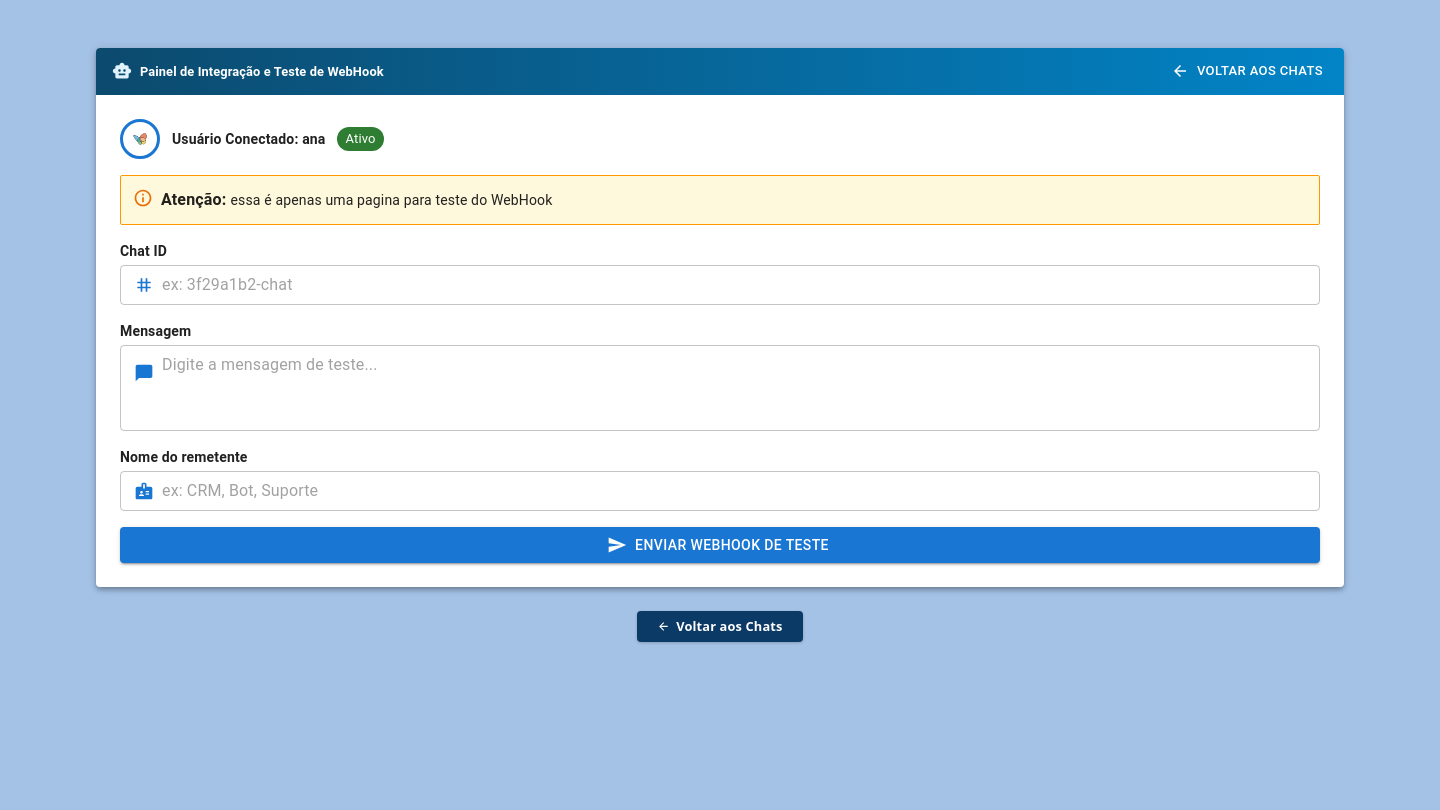
WebhookTestPage › shows a clear error when VITE_WEBHOOK_TEST_SECRET is not configured
Expected: the text "Usuário Conectado: ana" is shown, left=172, top=129, right=326, bottom=149
In the field labelled "Chat ID": {"x": 741, "y": 285} left=162, top=265, right=1320, bottom=305, type "chat-1"
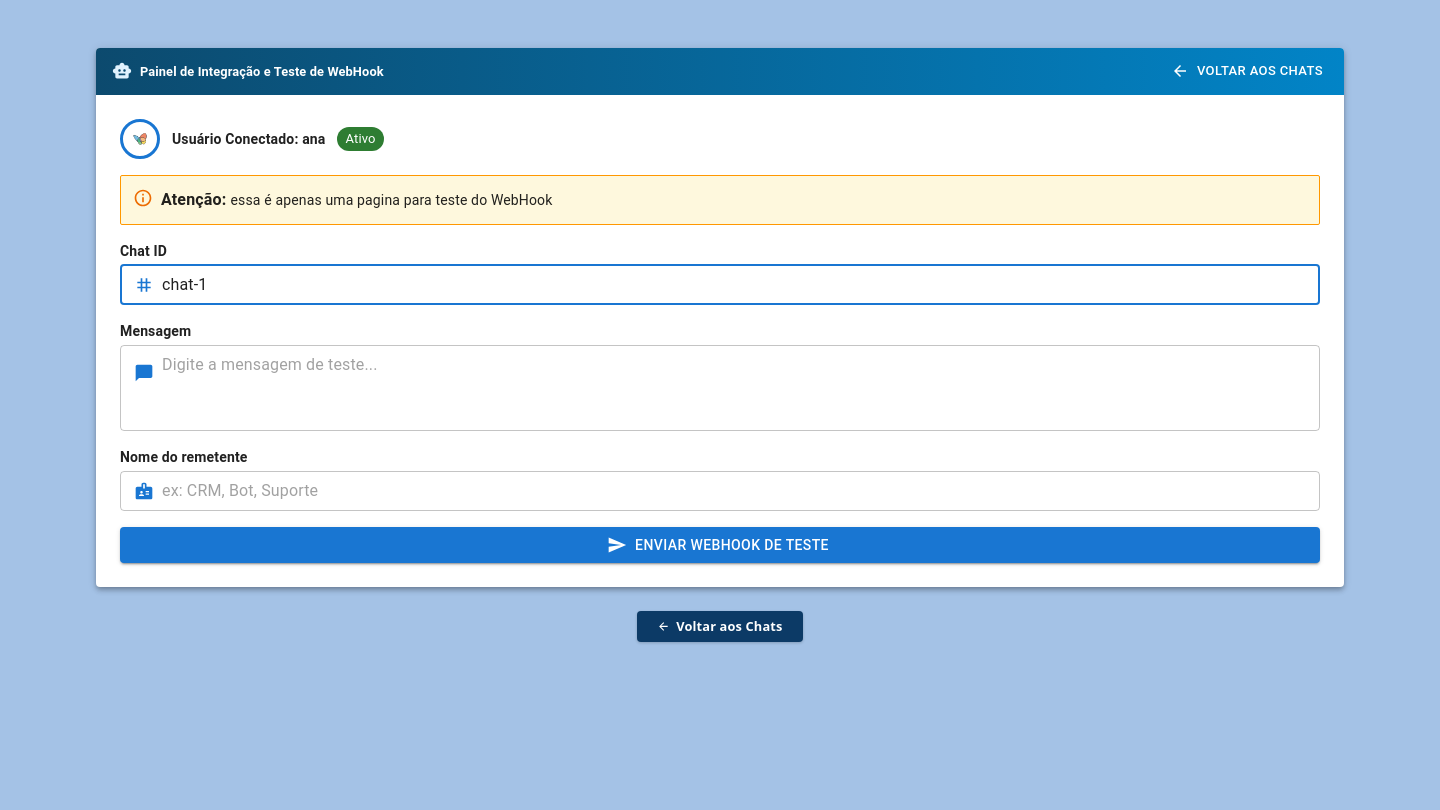
In the text box labelled "Mensagem": {"x": 734, "y": 388} left=162, top=353, right=1306, bottom=422, type "oi"
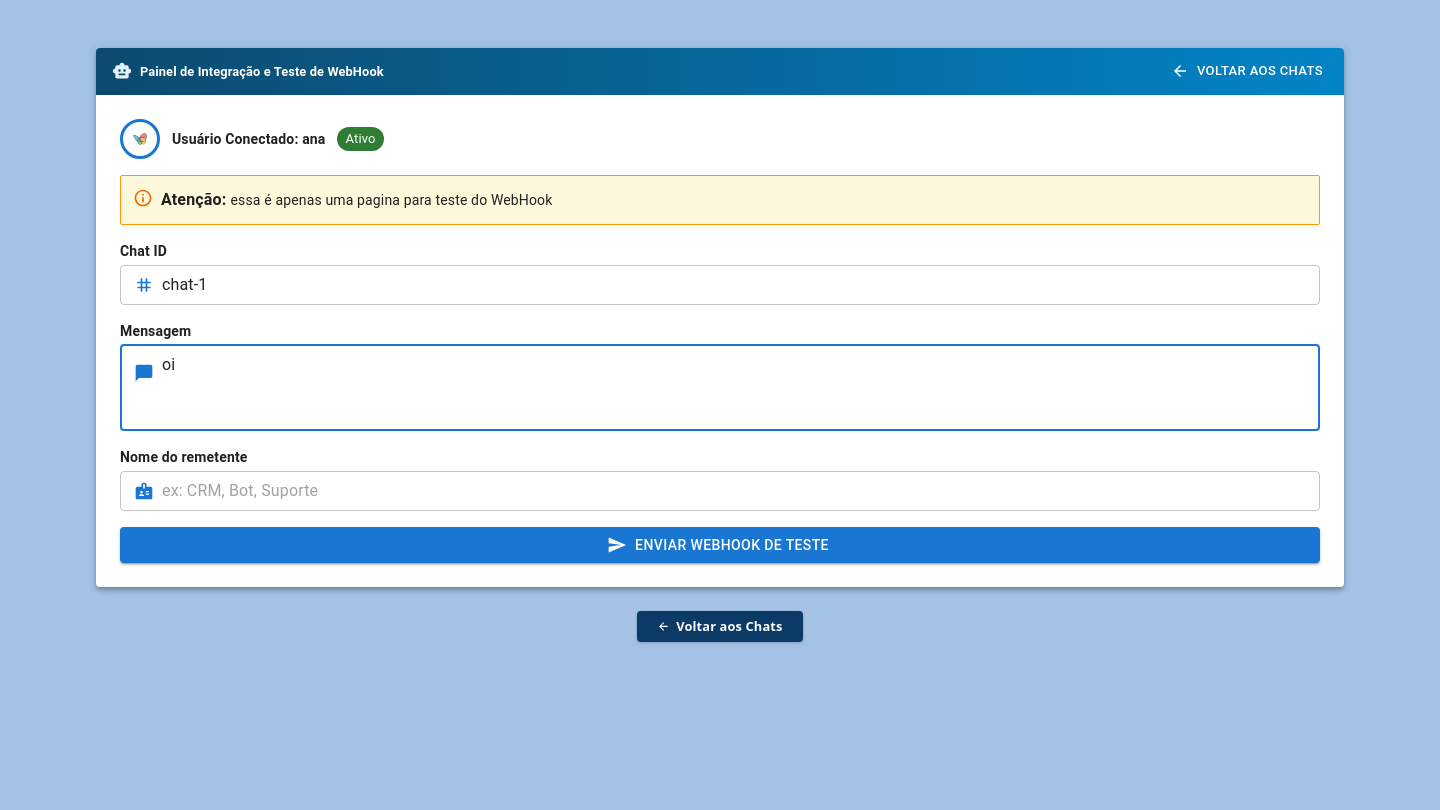
Click the button "Enviar WebHook de Teste": {"x": 720, "y": 545} left=120, top=527, right=1320, bottom=563
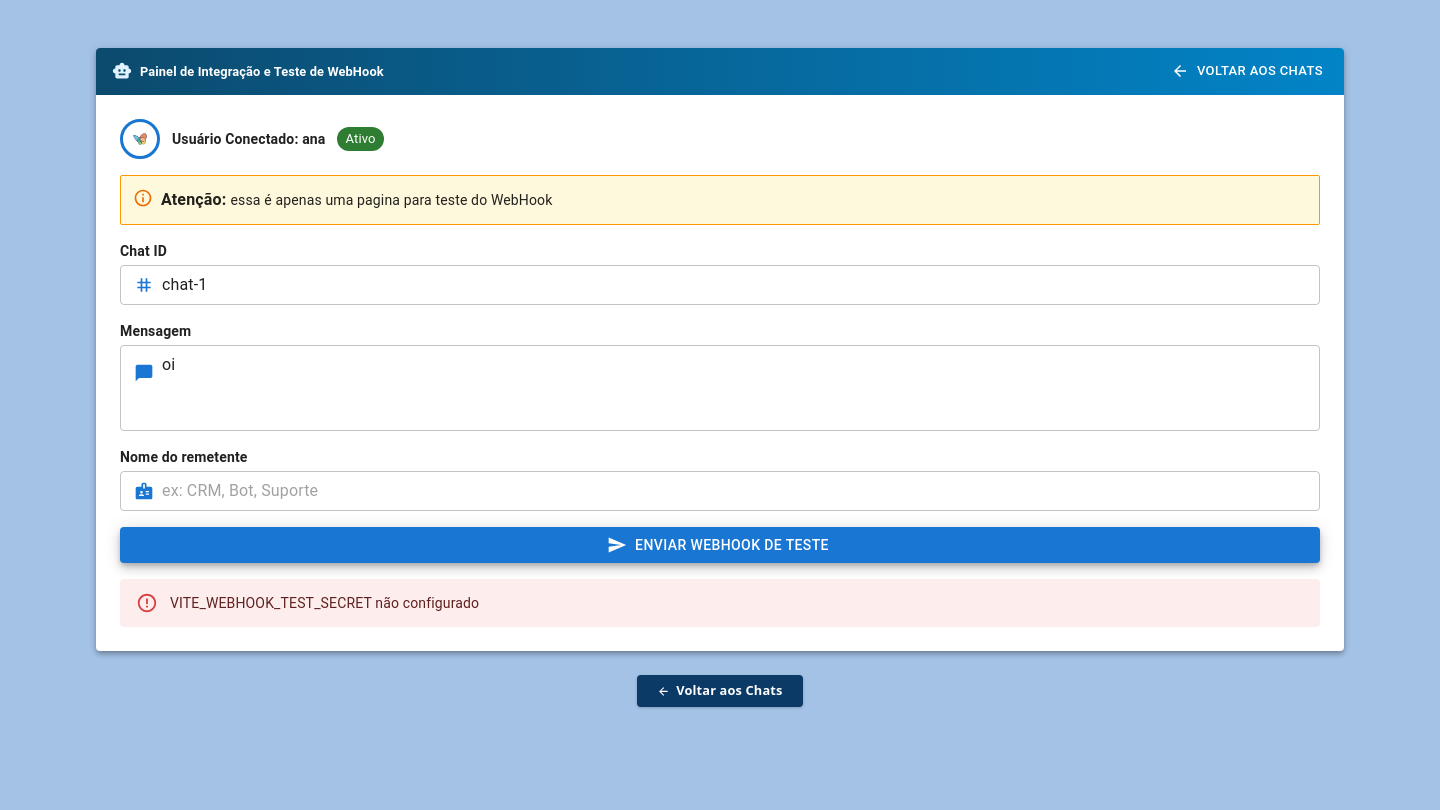
Expected: the message shows "VITE_WEBHOOK_TEST_SECRET", left=170, top=595, right=479, bottom=611
